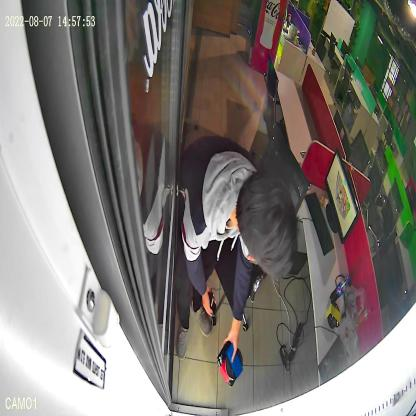blue: (225, 343, 243, 381)
red: (217, 341, 236, 388)
